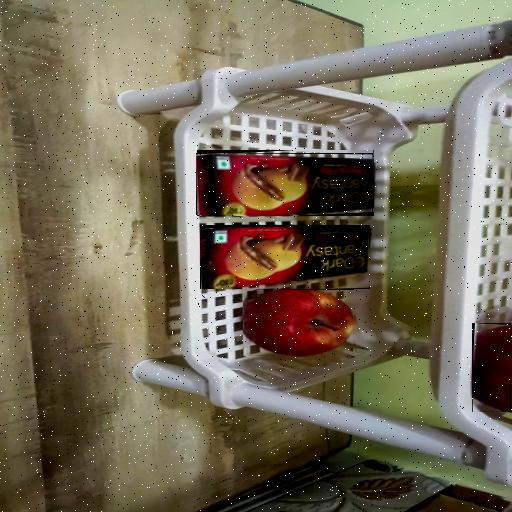Apple: (243, 290, 354, 356), (472, 325, 511, 412)
Choco Fills: (197, 154, 373, 215), (200, 226, 369, 289)
